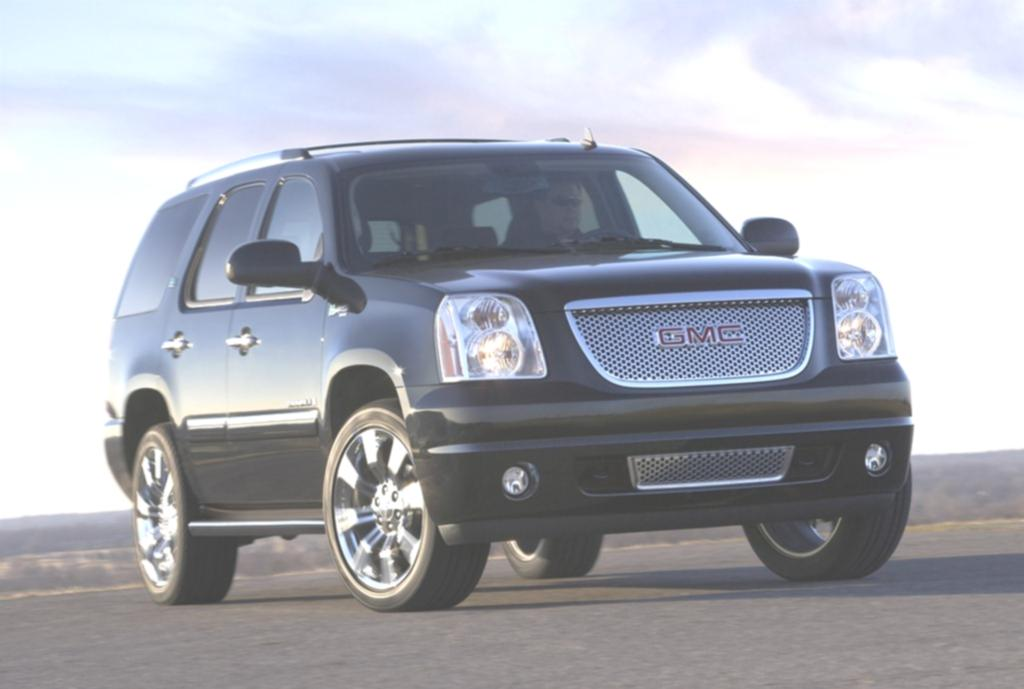GMC: (645, 315, 756, 354)
